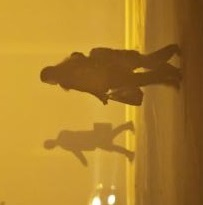person: (39, 59, 185, 107), (42, 122, 136, 166), (69, 41, 184, 71)
